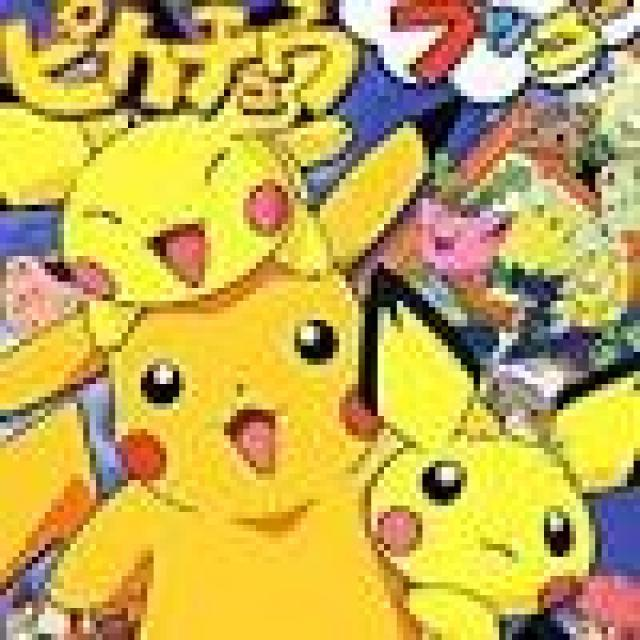pichu: (365, 333, 640, 640), (51, 100, 316, 289)
